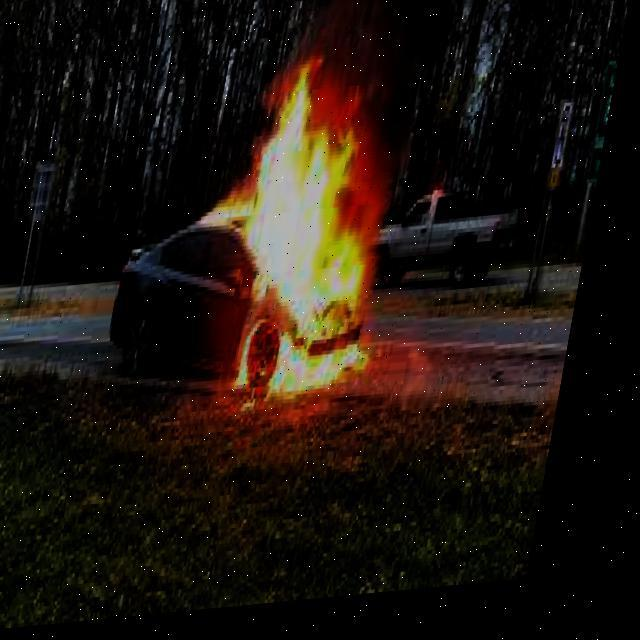Fire: (198, 69, 444, 422)
